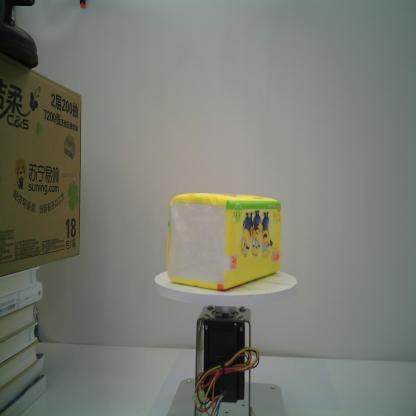Tissue: (164, 191, 284, 294)
